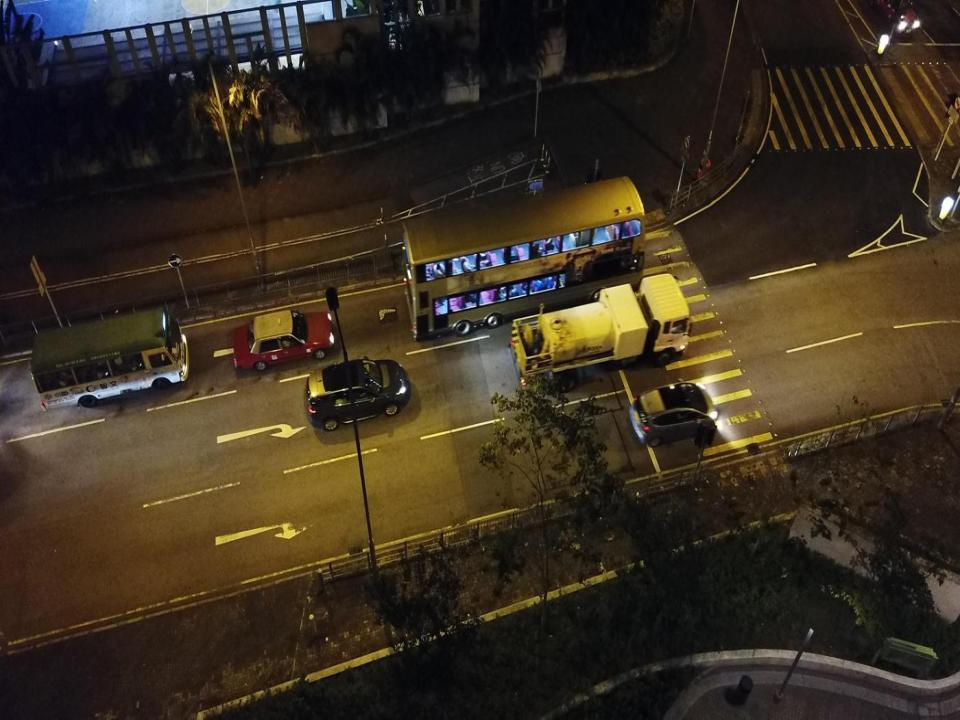bus: (401, 176, 646, 342), (30, 308, 189, 412)
car: (305, 356, 410, 432), (232, 309, 334, 372), (629, 382, 717, 448), (868, 0, 921, 36)
truck: (511, 273, 691, 393)
